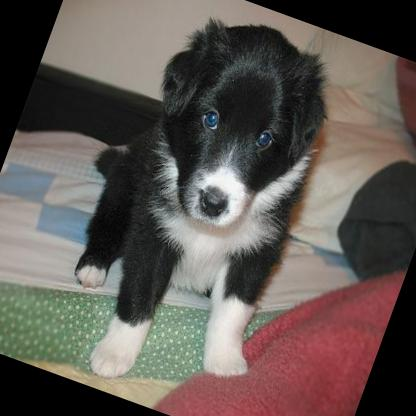Border_collie: (23, 0, 363, 416)
